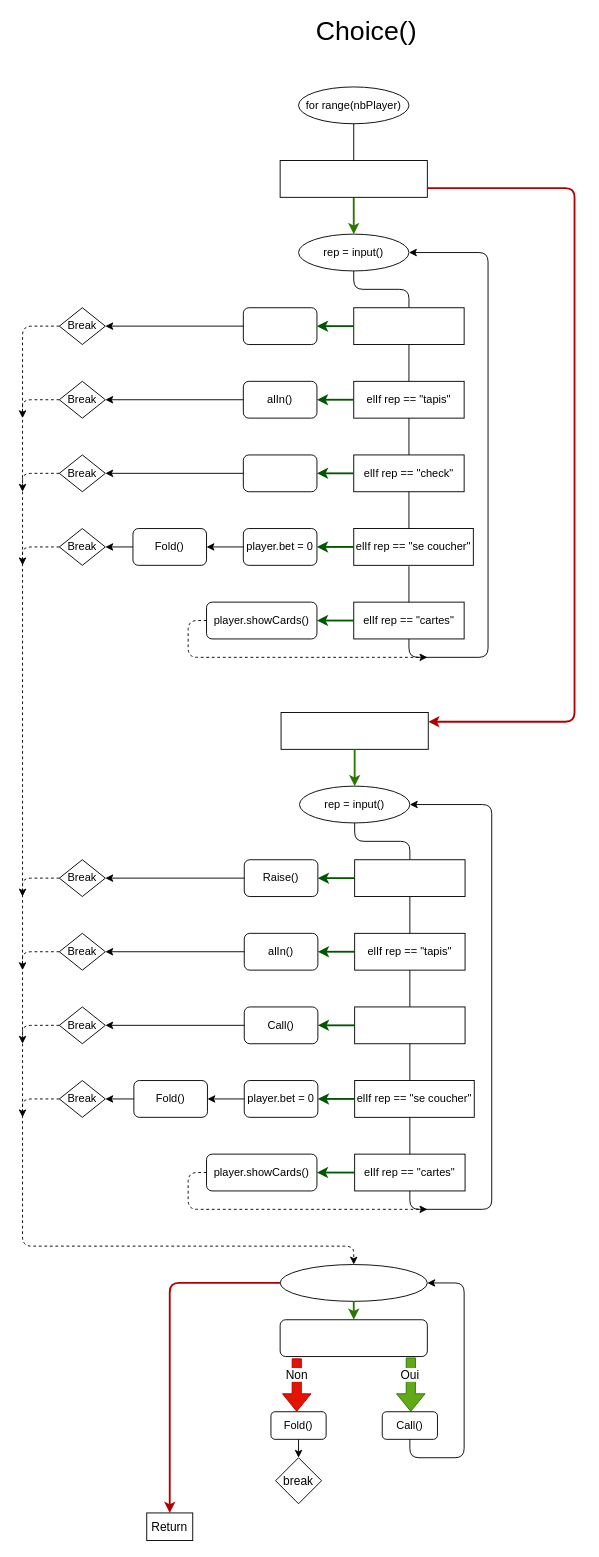
This 599x1557 diagram has some shape labels left out. Here are the shapes that lost their labels. From the top down, the box of each, then its label:
(279, 160, 427, 197): If currentBet == 0 and player.allIn == False
(242, 307, 317, 345): Bet()
(353, 307, 464, 345): If rep == "mise"
(242, 454, 317, 492): Check()
(280, 712, 428, 749): elif player.bet != currentBet and player.allIn == False
(354, 859, 465, 897): If rep == "relance"
(354, 1006, 465, 1044): elIf rep == "suivre"
(279, 1264, 427, 1301): while player.bet < currentBet
(279, 1319, 427, 1357): input( "Voulez vous vous mettre à niveau?")
